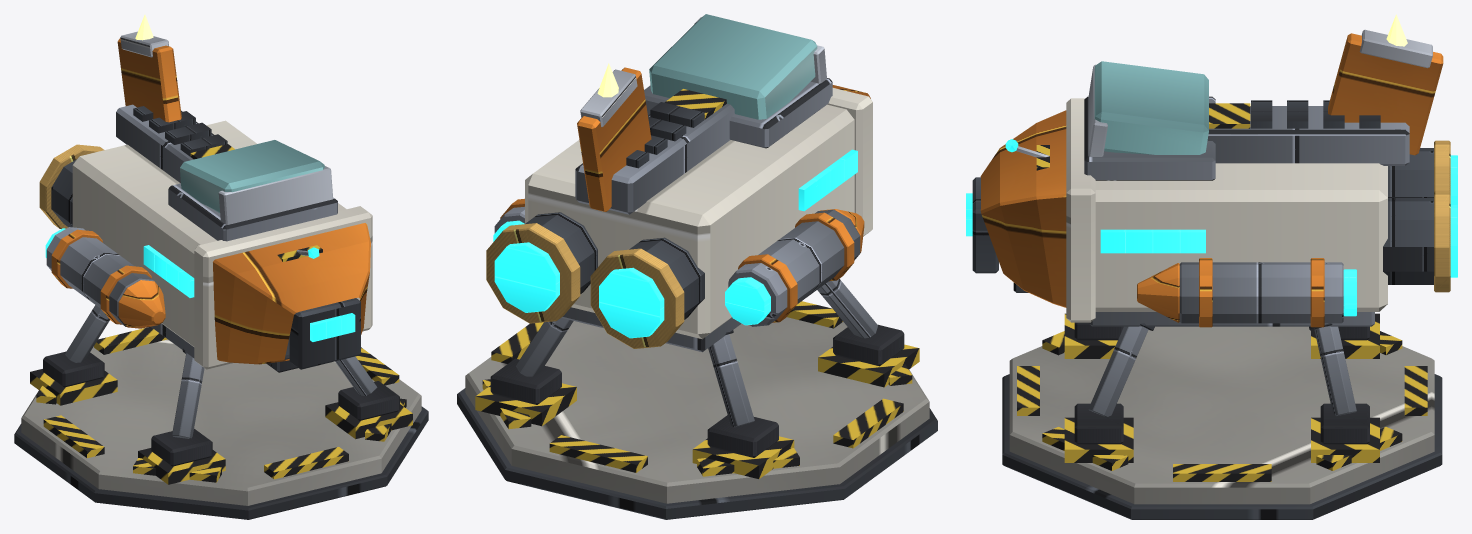
Rendered from BLD_Core_A_v1.fbx.
3 renders of one model, left to right at view 1: azimuth 30°, elevation 25°; view 2: azimuth 150°, elevation 25°; view 3: azimuth 270°, elevation 25°, orthographic. The views are drawn at different scales.
Parts seen in each view (by area): view 1: GEO_Core_A; view 2: GEO_Core_A; view 3: GEO_Core_A.
Part boxes in pixels (bbox=[...]): GEO_Core_A: bbox=[14, 14, 428, 519]; GEO_Core_A: bbox=[457, 14, 937, 519]; GEO_Core_A: bbox=[966, 14, 1457, 519].
Bounding box in the file's own units: 268 × 278 × 299.
